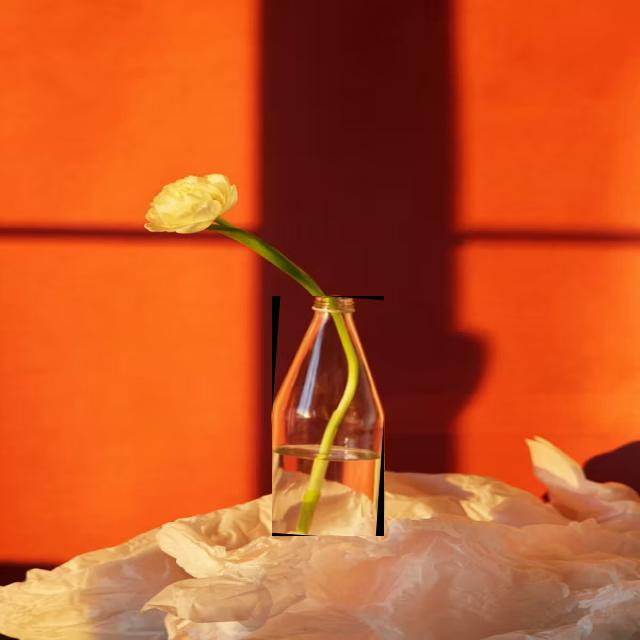Bottle: (272, 296, 383, 536)
